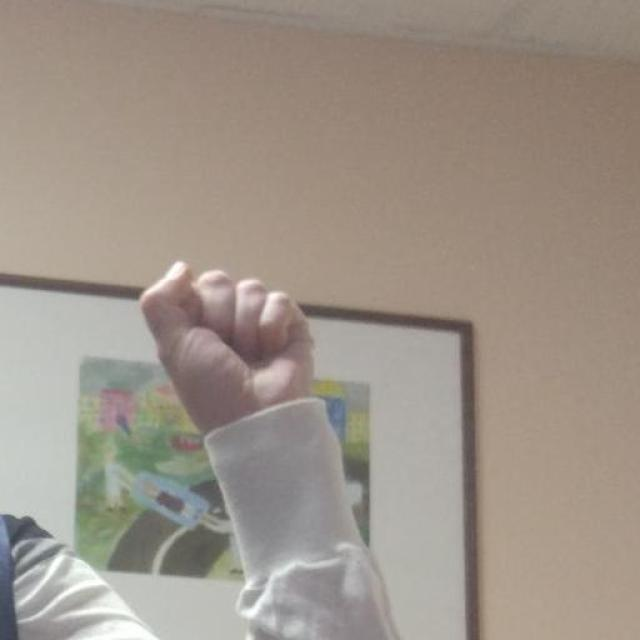hand: (137, 259, 315, 435)
